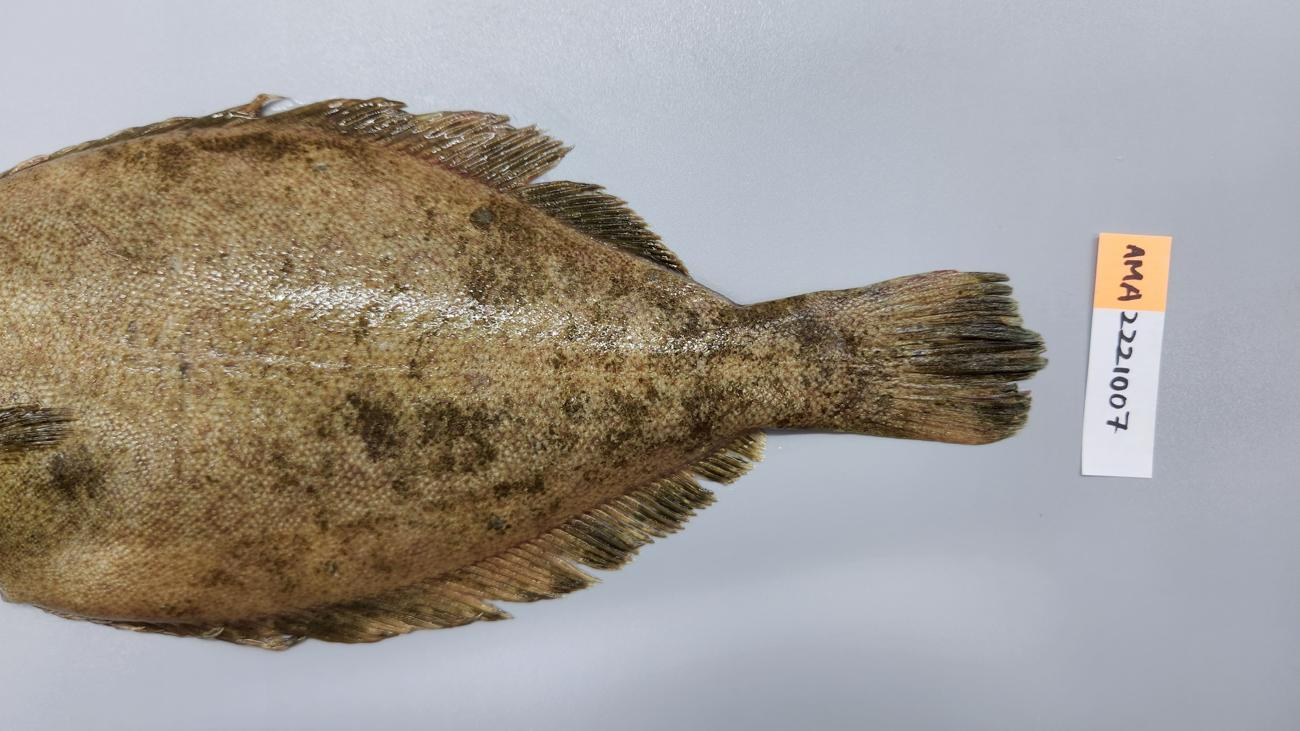MAFAH: (854, 271, 1047, 445)
